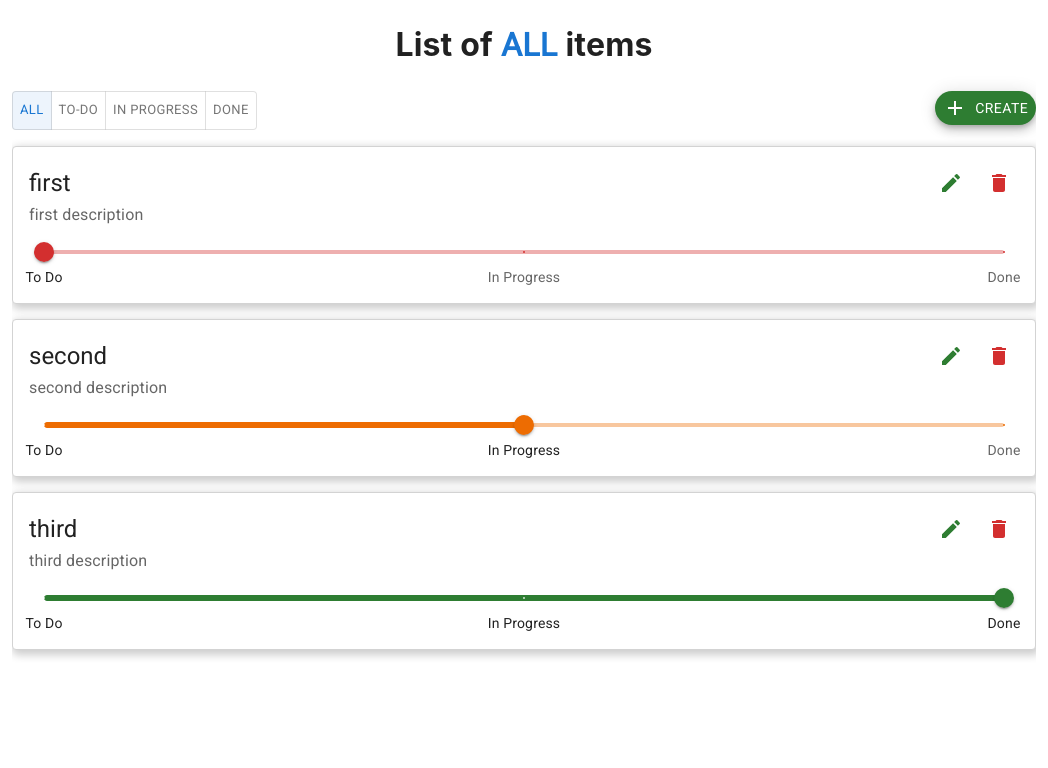
Scenario: Home › Should display only done item cards
The image size is (1048, 768).
Expected: the text "first description" is shown, x1=29 y1=205 x2=143 y2=224
Expected: the text "second description" is shown, x1=29 y1=378 x2=167 y2=397
What coordinates should you click on to do the following:
click the button "Done"
I would click on:
 (231, 110)
Its box is x1=205 y1=91 x2=257 y2=130.
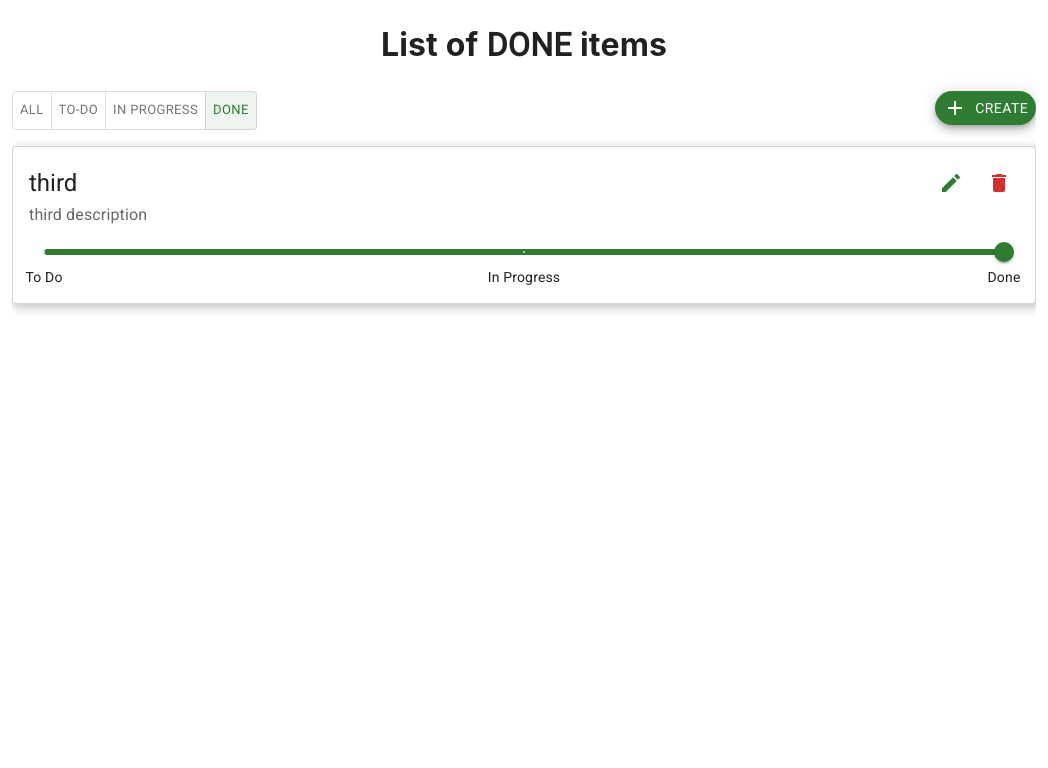
Expected: the text "third description" is shown, x1=29 y1=205 x2=147 y2=224
Now the text "first description" is gone
